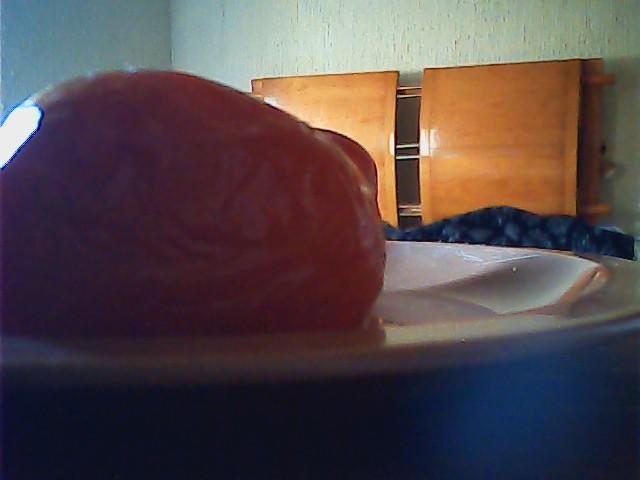maduro: (1, 71, 392, 317)
